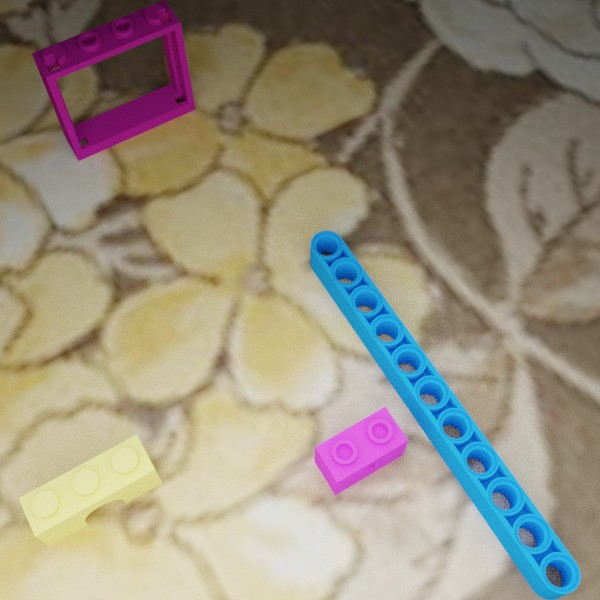lego: (310, 230, 580, 600), (31, 0, 195, 161), (18, 434, 162, 546), (314, 406, 408, 495)
